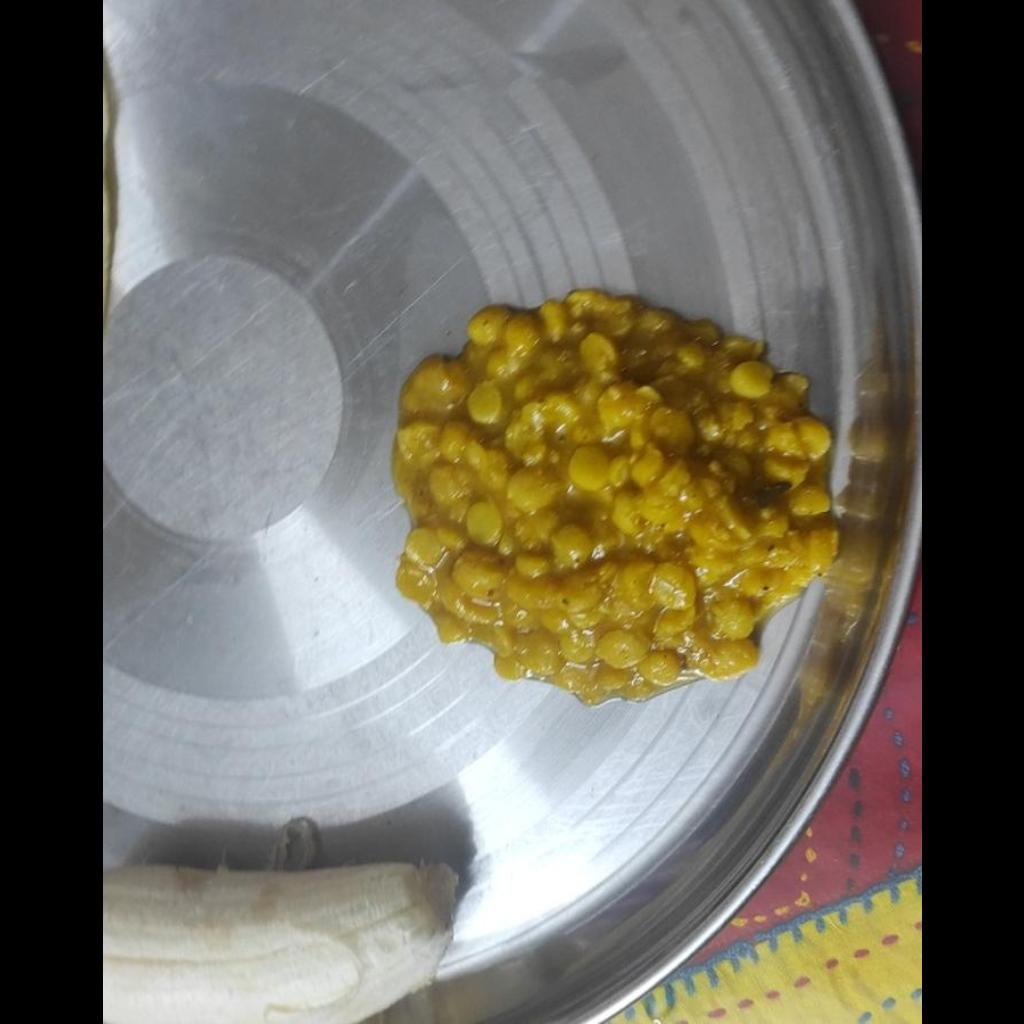banana: (106, 859, 468, 1023)
daal: (390, 290, 843, 706)
